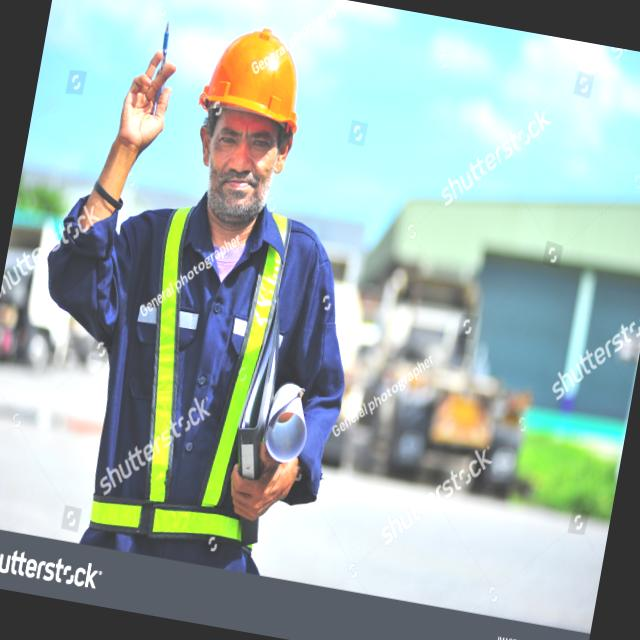helmet: (192, 16, 313, 141)
no-goggles: (206, 112, 280, 164)
vest: (80, 182, 313, 558)
